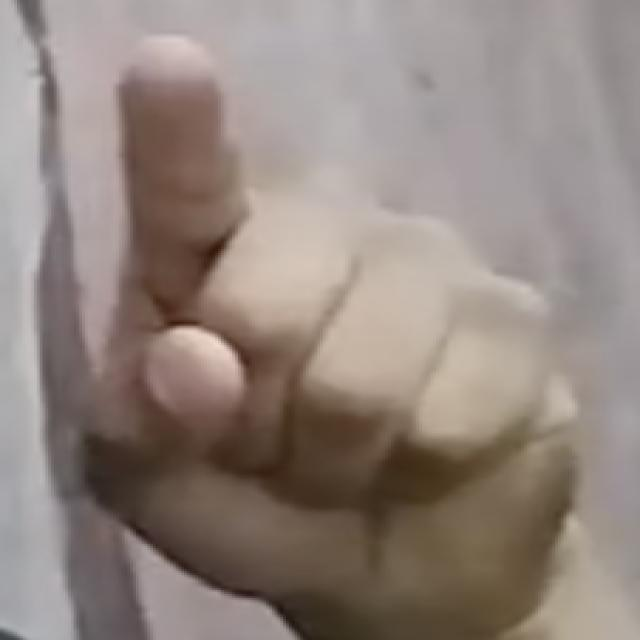Z: (72, 22, 611, 625)
